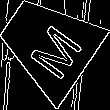M_NW: (16, 11, 80, 77)
